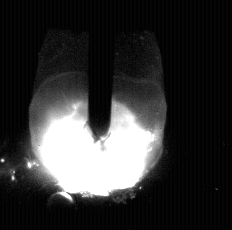arame: (89, 0, 113, 141)
poca: (30, 0, 164, 230)
